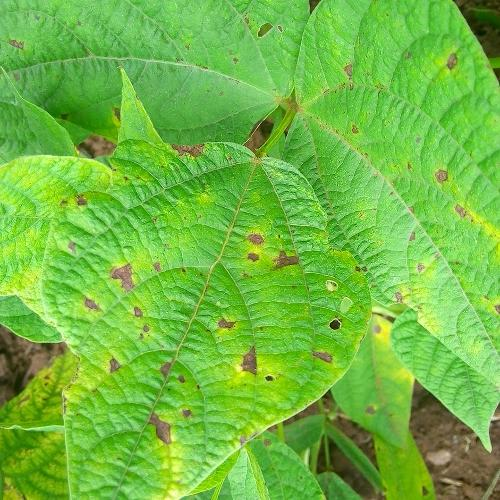hawar: (229, 196, 320, 291), (79, 254, 168, 346), (129, 353, 192, 457), (29, 164, 128, 220), (199, 309, 271, 382)
